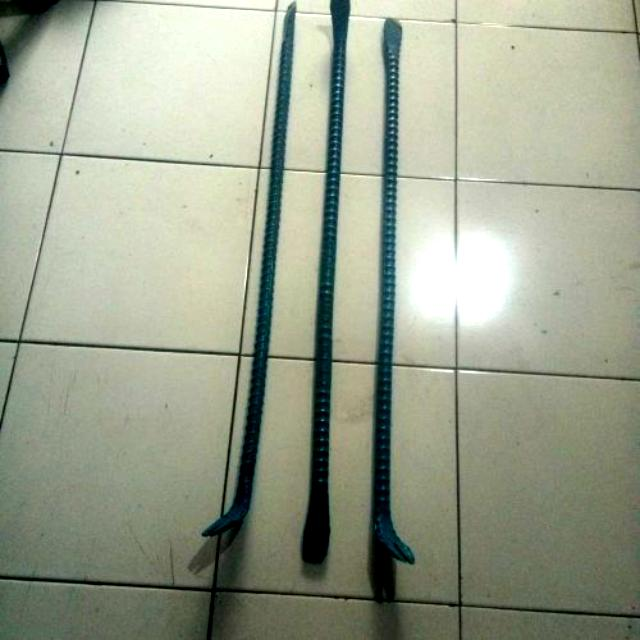crow bar: (191, 0, 302, 552), (367, 7, 422, 576), (299, 0, 354, 566)
